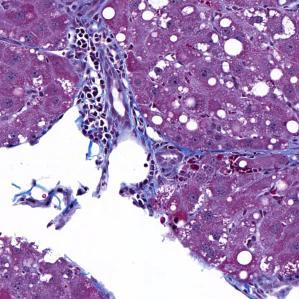fibrosis: (69, 37, 144, 139)
